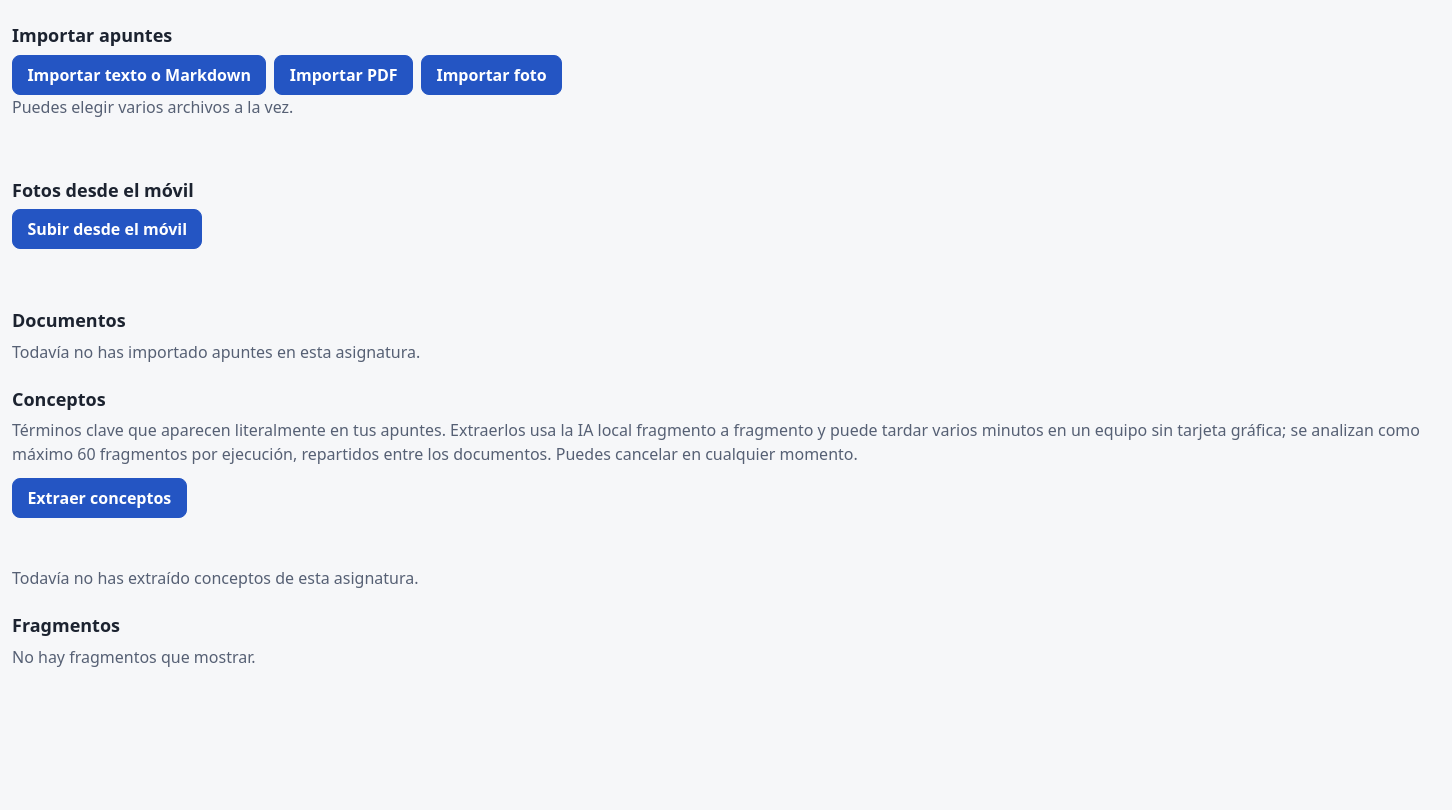
Test case: MobileUpload: sesión › un error al arrancar (sin wifi) se muestra en un Alert y se puede reintentar
Click the button "Subir desde el móvil" at (107, 229), box 12,209 -> 202,249
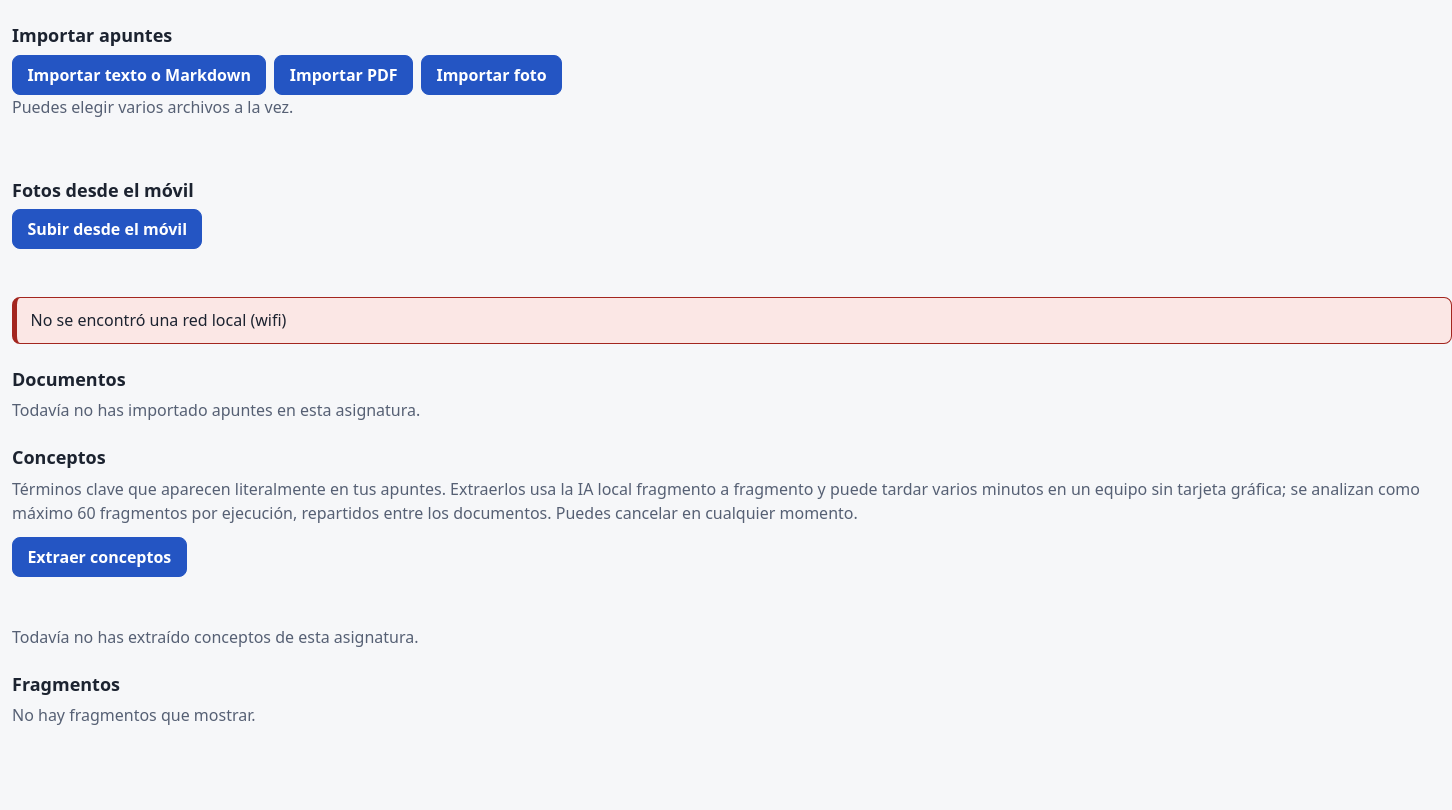
Expected: the message "No se encontró una red local (wifi)" is shown, 12,297 -> 1451,344
